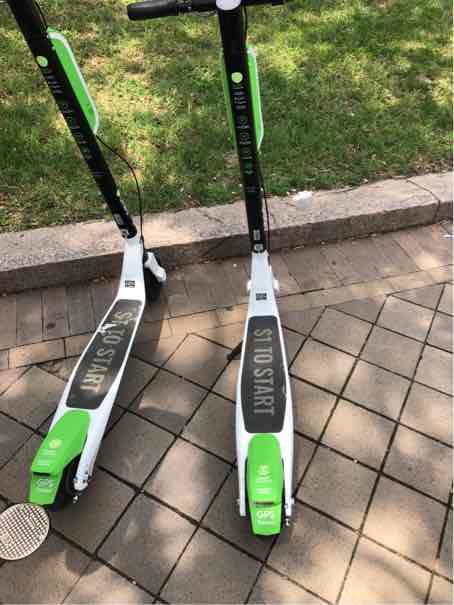scooter: (120, 14, 327, 532)
